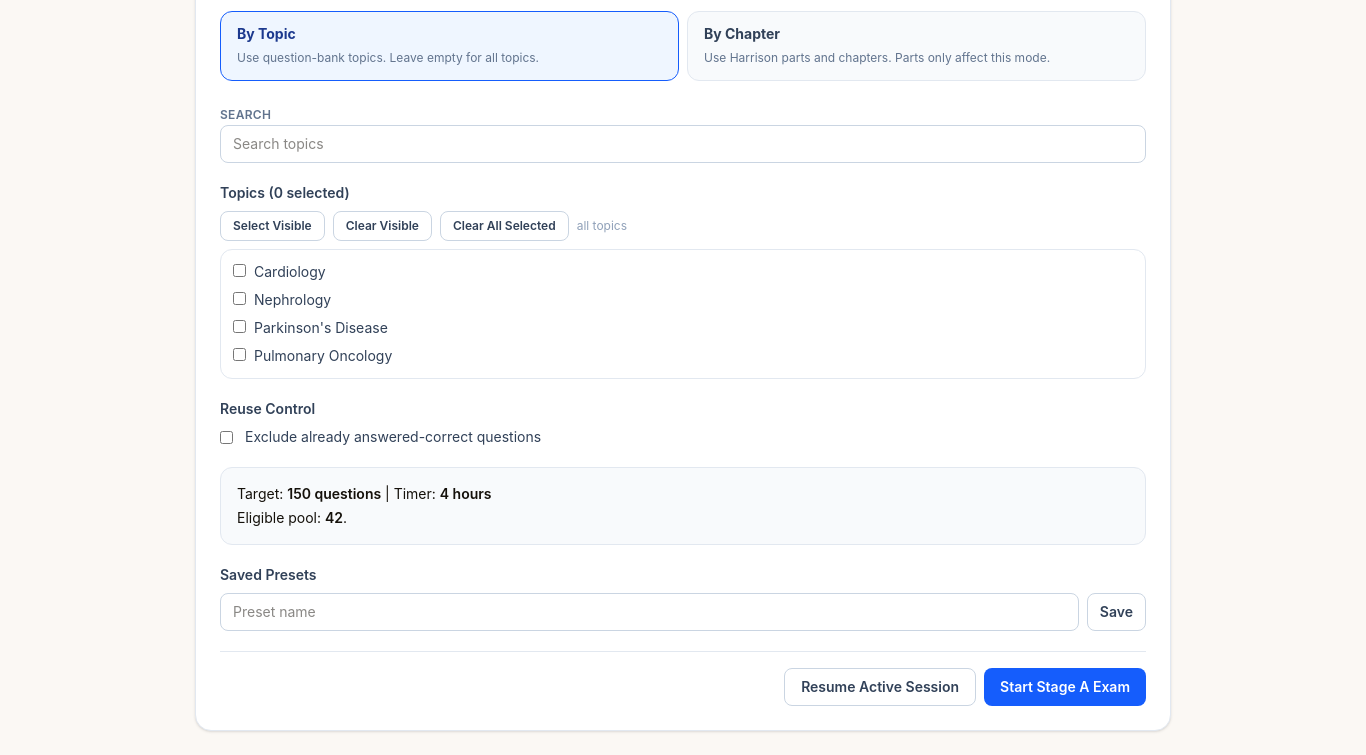
Test: ExamsPage › selecting option and submitting increments answered counter
(page scrolled)
Click the button "Start Stage A Exam".
click(1065, 687)  # box [984,668,1146,706]
(page scrolled)
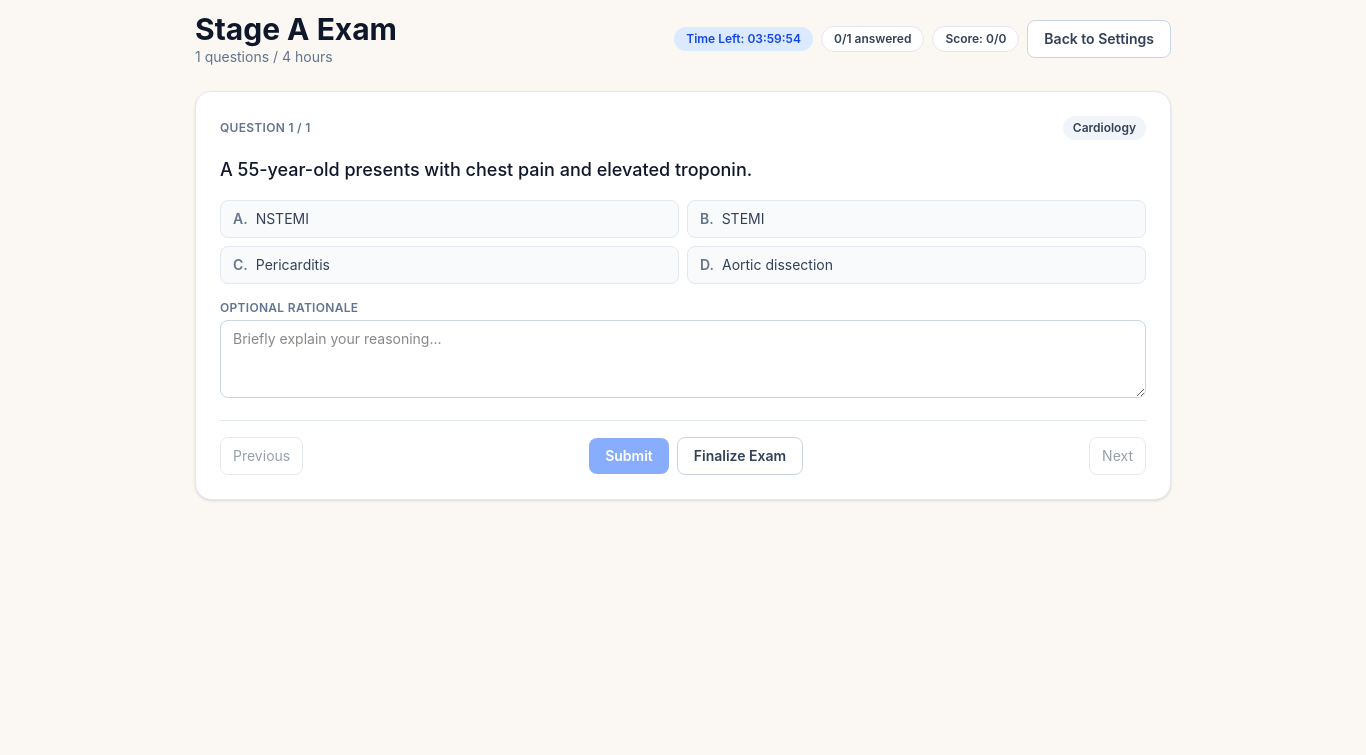
Check: the text "A 55-year-old presents with chest pain and elevated troponin." is shown, box [220,159,752,180]
Select first option (A. NSTEMI)
Click the button "A.NSTEMI".
click(282, 218)  # box [220,200,679,238]
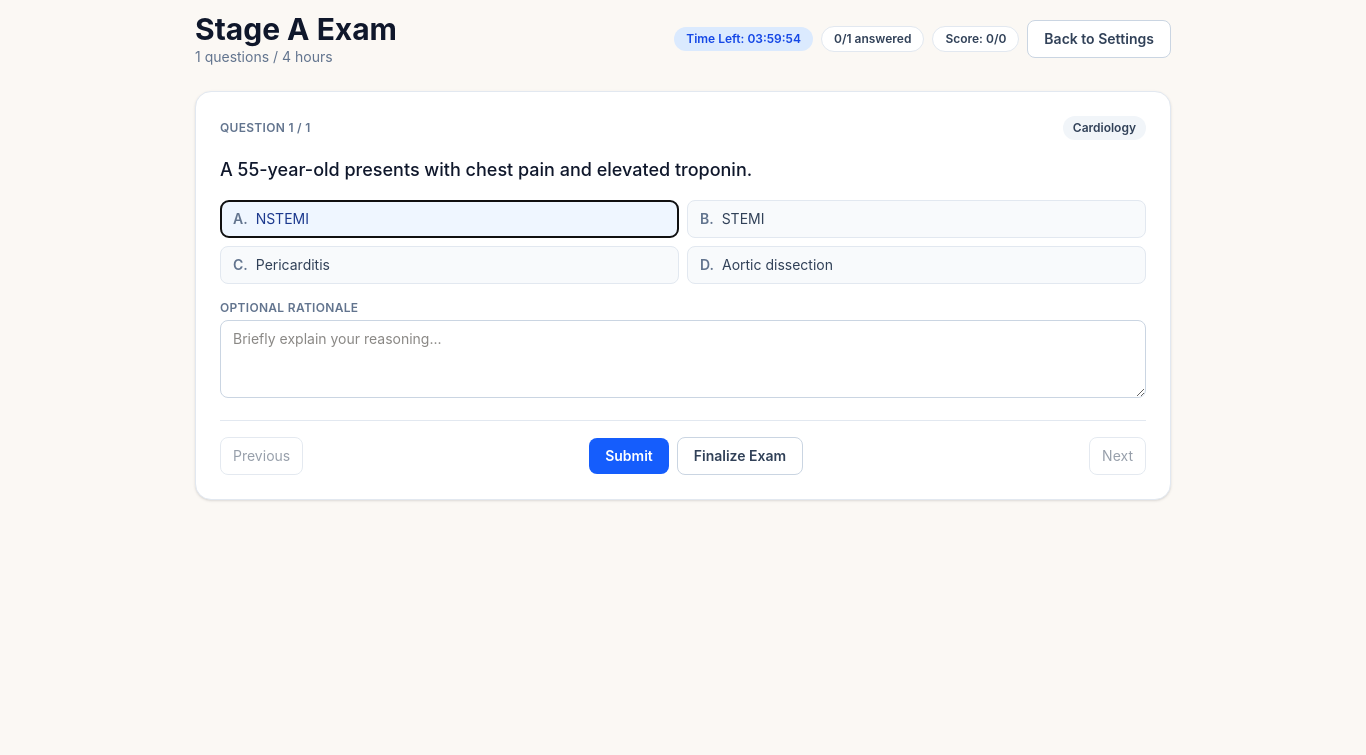
Click the button "Submit".
click(629, 456)  # box [589,438,669,474]
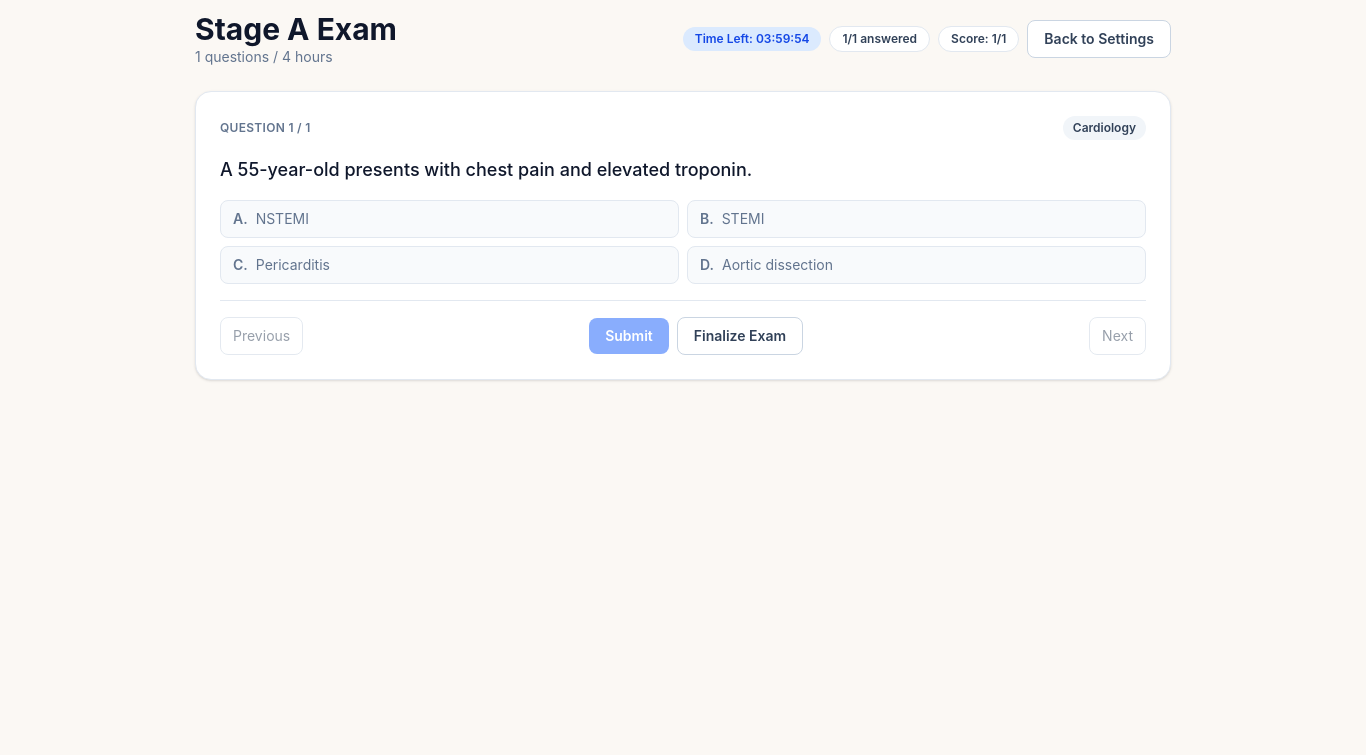
Check: the text "1/1 answered" is shown, box [830,26,930,52]
